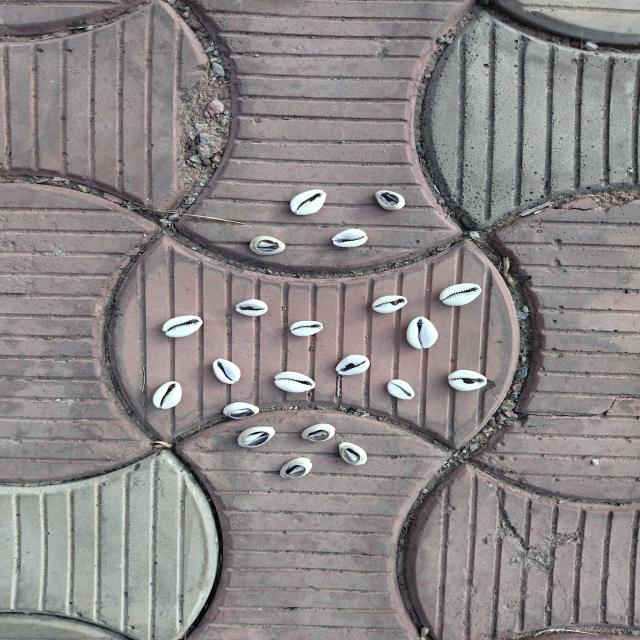facedown: (235, 424, 281, 450), (372, 185, 408, 214), (278, 453, 314, 482), (247, 233, 289, 257), (334, 441, 372, 467), (300, 422, 339, 444), (223, 400, 261, 421)
faceup: (286, 184, 328, 220), (404, 314, 440, 352), (271, 369, 318, 396), (438, 282, 485, 308), (150, 378, 185, 410), (446, 368, 489, 393), (161, 315, 204, 339), (329, 227, 370, 251), (370, 293, 410, 317), (333, 353, 372, 377), (234, 296, 270, 321), (210, 358, 242, 386), (386, 375, 417, 403), (288, 317, 324, 339)
